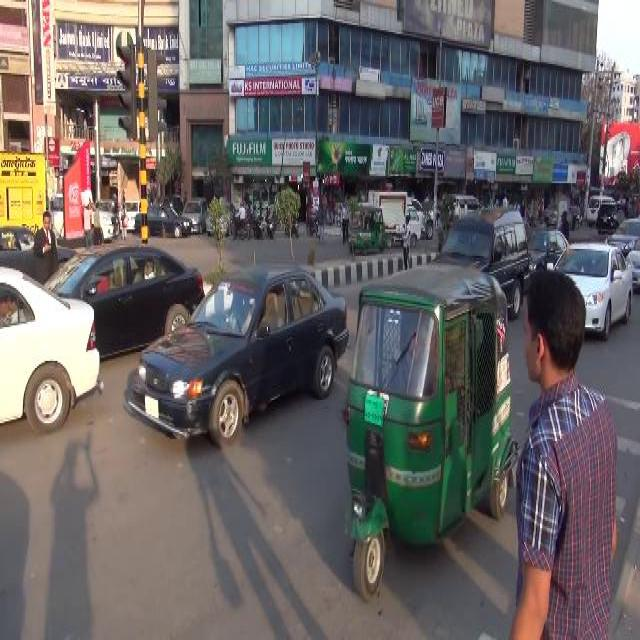car: (122, 259, 352, 456), (0, 259, 105, 441), (48, 236, 208, 326), (546, 240, 634, 340), (132, 202, 194, 242), (526, 223, 566, 268), (606, 213, 638, 256), (625, 236, 639, 294)
motorbike: (249, 211, 265, 241), (303, 207, 317, 237), (264, 208, 274, 240)
pickup: (366, 187, 422, 250)
three wheelers -CNG-: (337, 258, 521, 610), (346, 204, 384, 258)
